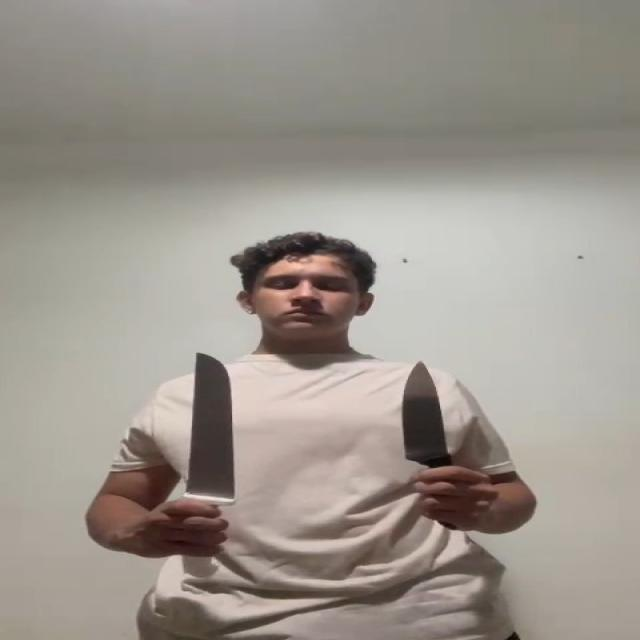knife: (187, 350, 246, 508), (398, 360, 457, 464)
